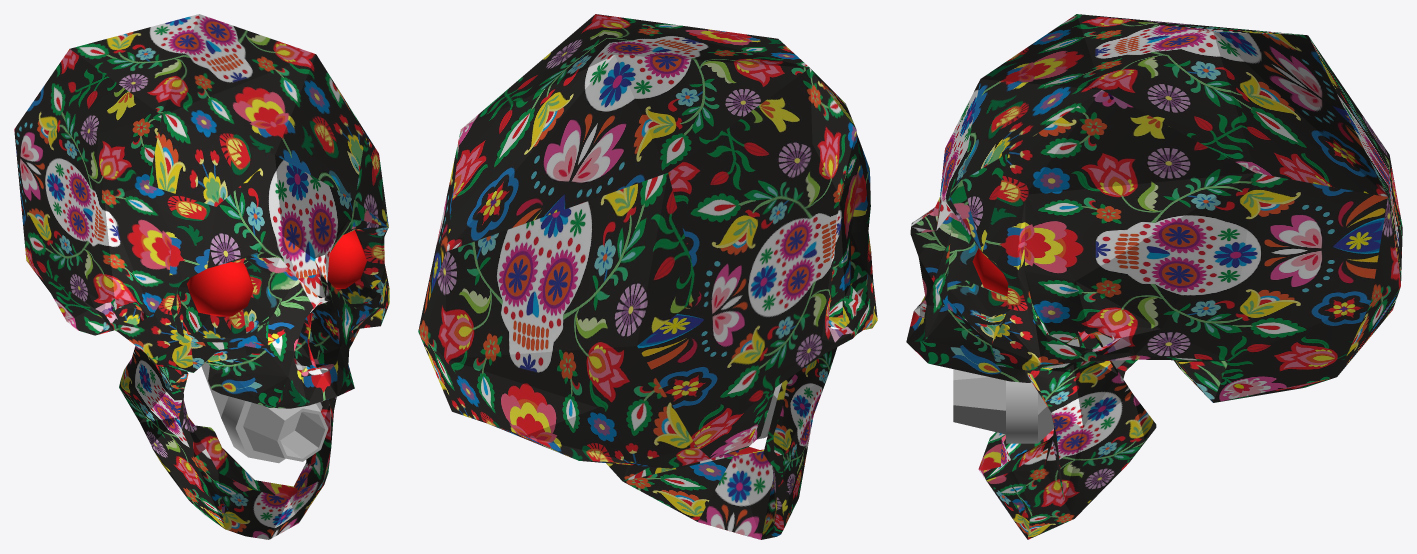
Rendered from Enemie04_Mapa03.FBX.
3 views of the same model, side by side, from view 1: azimuth 30°, elevation 25°; view 2: azimuth 150°, elevation 25°; view 3: azimuth 270°, elevation 25° (orthographic). The views are drawn at different scales.
Visible parts, largest first — view 1: 12140_Skull_v3; view 2: 12140_Skull_v3; view 3: 12140_Skull_v3.
Boxes of the visible parts, <box> form: 12140_Skull_v3: <box>14,14,389,539</box>; 12140_Skull_v3: <box>418,14,877,539</box>; 12140_Skull_v3: <box>906,14,1402,539</box>.
Size of the model in its own units: 99.42 by 166 by 148.
